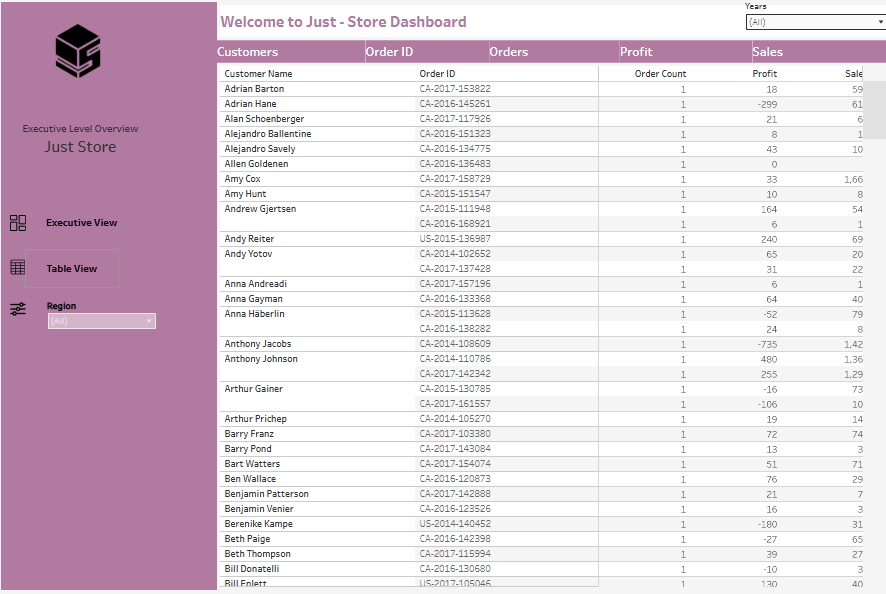

The page's visual inventory and layout, read from the dashboard file:
{"tool":"tableau","page":{"name":"Table View","canvas":[1200,800],"ordinal":1},"visuals":[{"type":"filter","title":"Overview","param":"[federated.0dv8ama1khhuof1btwyky10lgl2g].[yr:Order Date:ok]","box":[999.5,5,193,49.6]},{"type":"text","box":[296,8,896,51]},{"type":"image","param":"Image/letter-s.png","box":[74.8,36.7,71.8,84.4]},{"type":"text","box":[296,59,204.8,32]},{"type":"text","box":[500.8,59,160.8,32]},{"type":"text","box":[661.6,59,172.8,32]},{"type":"text","box":[834.4,59,176.8,32]},{"type":"text","box":[1011.1,59,180.8,32]},{"type":"worksheet","title":"Overview","mark":"Automatic","rows":["Customer Name","Order ID"],"box":[296,91,896,701]},{"type":"text","box":[9,148.9,209.5,82.4]},{"type":"dashboard-object","box":[53.9,274.9,122.7,51.6]},{"type":"image","param":"Image/dashboard.png","box":[20.2,291.8,21,25.8]},{"type":"dashboard-object","box":[40.4,337.5,124.9,51.6]},{"type":"image","param":"Image/table (1).png","box":[20.2,351.4,21,25.8]},{"type":"filter","title":"Overview","param":"[federated.0dv8ama1khhuof1btwyky10lgl2g].[none:Region:nk]","box":[68.8,404,147.4,54.6]},{"type":"image","param":"Image/filter.png","box":[20.2,406.9,21,25.8]}]}

Visuals, with their boxes in screenshot pixels (x1, y1, x2, y2), scaled from the page's 1200x800 canvas onto the 886x594 screenshot:
"Overview" filter: <bbox>738, 4, 880, 41</bbox>
text: <bbox>219, 6, 880, 44</bbox>
image: <bbox>55, 27, 108, 90</bbox>
text: <bbox>219, 44, 370, 68</bbox>
text: <bbox>370, 44, 488, 68</bbox>
text: <bbox>488, 44, 616, 68</bbox>
text: <bbox>616, 44, 747, 68</bbox>
text: <bbox>747, 44, 880, 68</bbox>
"Overview" worksheet: <bbox>219, 68, 880, 588</bbox>
text: <bbox>7, 111, 161, 172</bbox>
dashboard-object: <bbox>40, 204, 130, 242</bbox>
image: <bbox>15, 217, 30, 236</bbox>
dashboard-object: <bbox>30, 251, 122, 289</bbox>
image: <bbox>15, 261, 30, 280</bbox>
"Overview" filter: <bbox>51, 300, 160, 341</bbox>
image: <bbox>15, 302, 30, 321</bbox>
